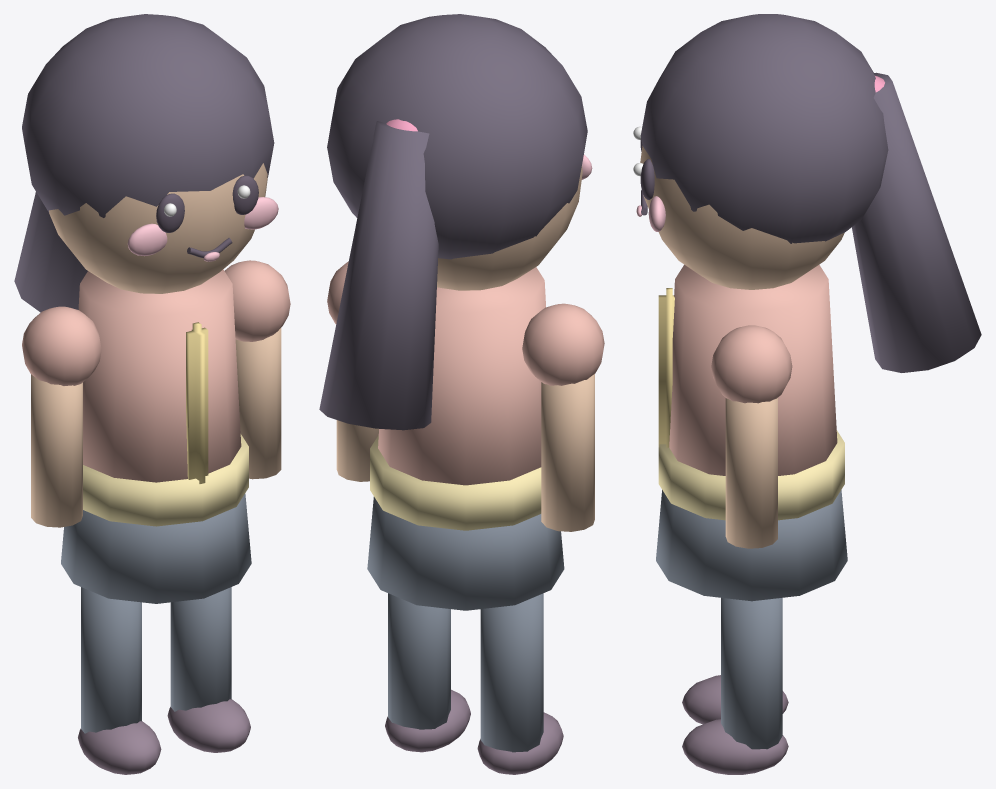
Rendered from Char_KungFu.fbx.
The picture shows the model from 3 angles, left to right: view 1: azimuth 30°, elevation 25°; view 2: azimuth 150°, elevation 25°; view 3: azimuth 270°, elevation 25°; orthographic projection. The views are drawn at different scales.
Visible parts, largest first — view 1: Char_KungFu; view 2: Char_KungFu; view 3: Char_KungFu.
Boxes of the visible parts, x1,y1,x2,y2 form: Char_KungFu: (14, 14, 290, 774); Char_KungFu: (319, 14, 604, 774); Char_KungFu: (633, 14, 981, 774).
Size of the model in its own units: 0.5552 by 1.48 by 0.6476.
